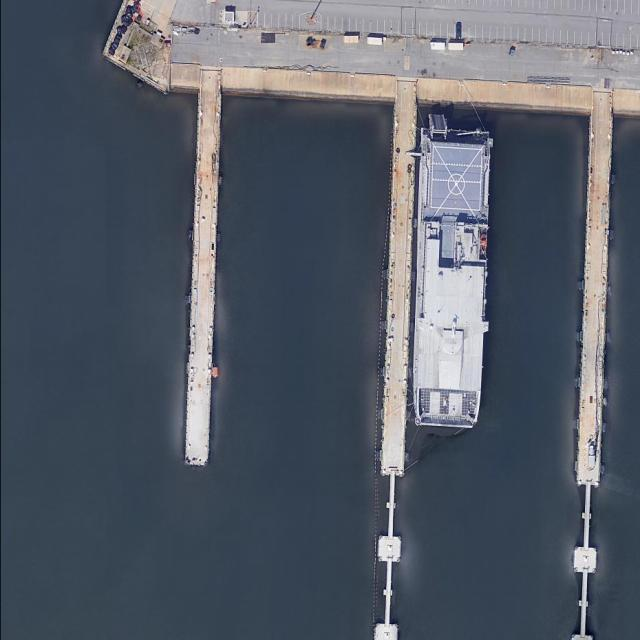Auxiliary Ships: (408, 123, 498, 431)
Dock: (571, 109, 614, 575), (376, 99, 416, 563), (182, 86, 224, 465)
